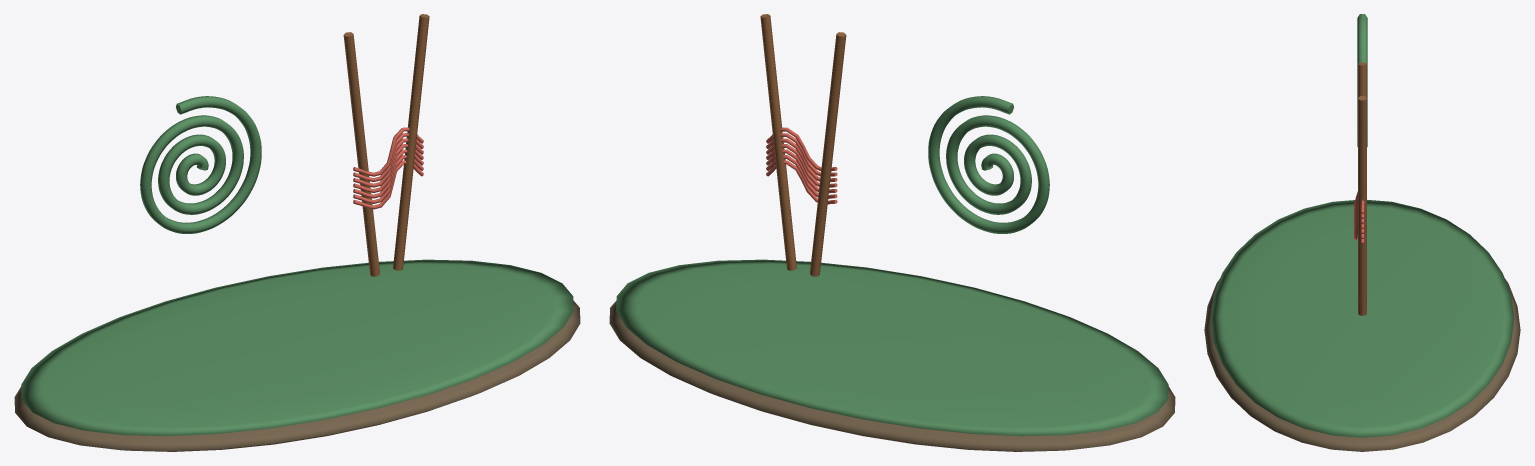
The model's file is tied-bundle.glb.
The picture shows the model from 3 angles, left to right: view 1: azimuth 30°, elevation 25°; view 2: azimuth 150°, elevation 25°; view 3: azimuth 270°, elevation 25°; orthographic projection. The views are drawn at different scales.
Visible parts, largest first — view 1: tied-bundle_surface_01, tied-bundle_surface_00, tied-bundle_surface_02, tied-bundle_surface_03; view 2: tied-bundle_surface_01, tied-bundle_surface_00, tied-bundle_surface_02, tied-bundle_surface_03; view 3: tied-bundle_surface_01, tied-bundle_surface_00, tied-bundle_surface_02, tied-bundle_surface_03.
Boxes of the visible parts, left/top/right/bottom form: tied-bundle_surface_01: left=21, top=96, right=573, bottom=436; tied-bundle_surface_00: left=14, top=300, right=580, bottom=451; tied-bundle_surface_02: left=343, top=14, right=429, bottom=276; tied-bundle_surface_03: left=353, top=127, right=423, bottom=209; tied-bundle_surface_01: left=616, top=96, right=1168, bottom=436; tied-bundle_surface_00: left=609, top=300, right=1175, bottom=451; tied-bundle_surface_02: left=760, top=14, right=846, bottom=276; tied-bundle_surface_03: left=766, top=127, right=837, bottom=204; tied-bundle_surface_01: left=1210, top=14, right=1514, bottom=437; tied-bundle_surface_00: left=1204, top=278, right=1520, bottom=451; tied-bundle_surface_02: left=1358, top=62, right=1366, bottom=315; tied-bundle_surface_03: left=1353, top=191, right=1364, bottom=243.
Size of the model in its own units: 4.56 by 2.66 by 2.5.
